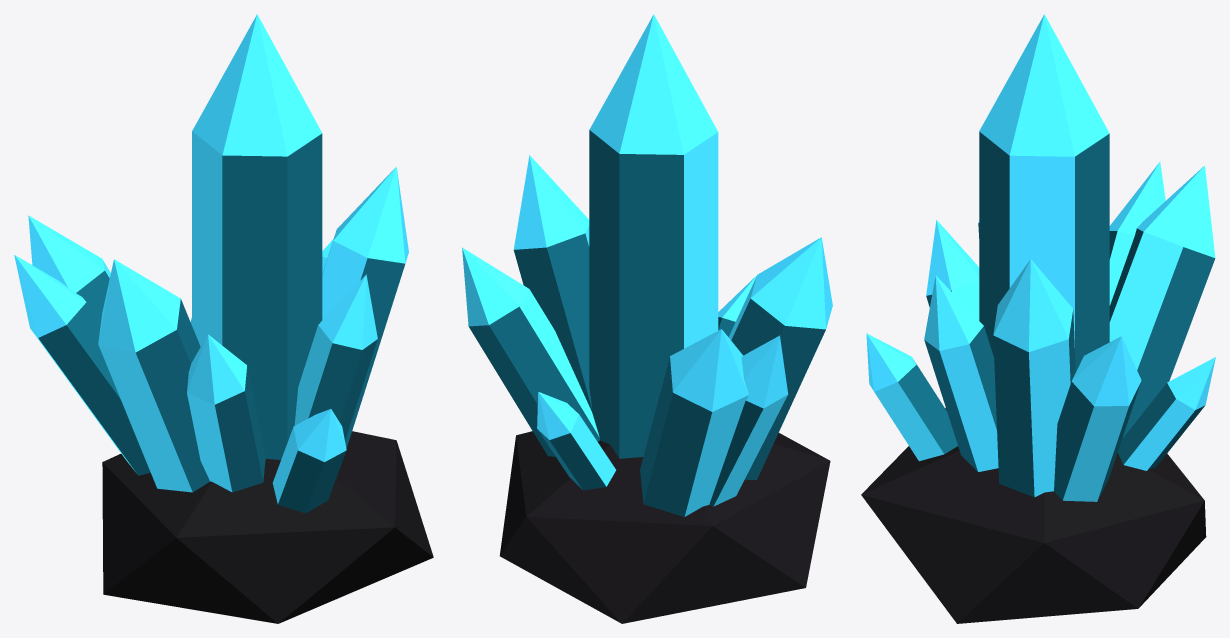
Rendered from SM_Crystal_ClusterLarge_A.glb.
3 renders of one model, left to right at view 1: azimuth 30°, elevation 25°; view 2: azimuth 150°, elevation 25°; view 3: azimuth 270°, elevation 25°, orthographic.
Parts seen in each view (by area): view 1: SM_Crystal_ClusterLarge_A; view 2: SM_Crystal_ClusterLarge_A; view 3: SM_Crystal_ClusterLarge_A.
Part boxes in pixels (bbox=[...]): SM_Crystal_ClusterLarge_A: bbox=[14, 14, 433, 623]; SM_Crystal_ClusterLarge_A: bbox=[462, 14, 832, 623]; SM_Crystal_ClusterLarge_A: bbox=[861, 14, 1215, 623].
Bounding box in the file's own units: 1.74 × 2.88 × 1.57.
Materials: 1 (1 with a texture image).
